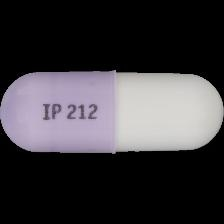65162-212: (0, 0, 224, 224)
